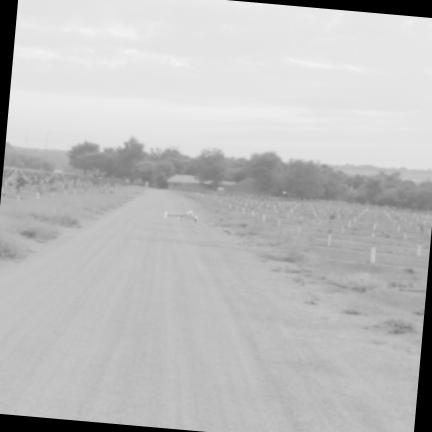Shahed: (165, 211, 197, 222)
